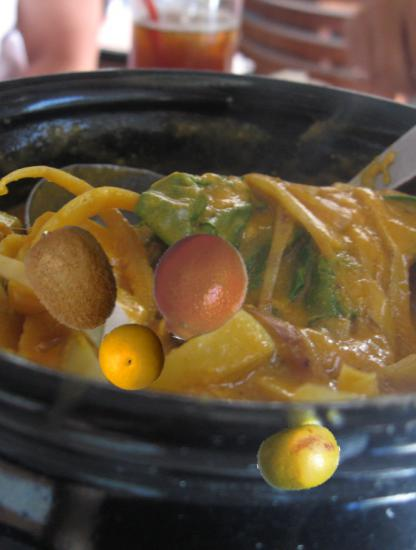Grapefruit: (98, 322, 167, 391)
Kiwi: (18, 224, 128, 334)
Pomelo: (256, 415, 342, 501)
Tangelo: (144, 233, 254, 343)
